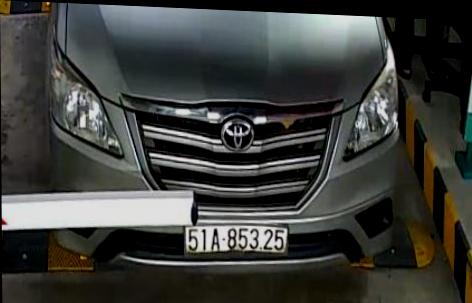License_Plate: (180, 221, 296, 269)
